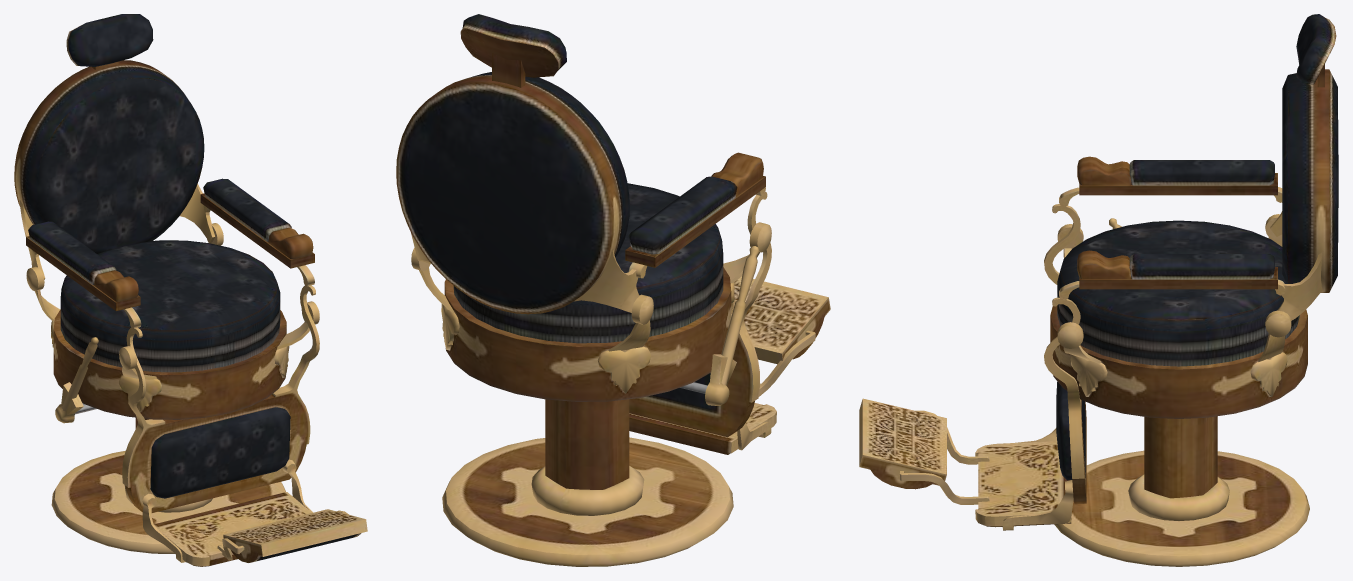
The model's file is BarberShopChair_01.glb.
3 renders of one model, left to right at view 1: azimuth 30°, elevation 25°; view 2: azimuth 150°, elevation 25°; view 3: azimuth 270°, elevation 25°, orthographic. The views are drawn at different scales.
Parts seen in each view (by area): view 1: BarberShopChair_01_0; view 2: BarberShopChair_01_0; view 3: BarberShopChair_01_0.
Part boxes in pixels (x1,y1,x2,y2): BarberShopChair_01_0: (14, 14, 367, 566); BarberShopChair_01_0: (396, 14, 830, 566); BarberShopChair_01_0: (859, 14, 1338, 566).
Bounding box in the file's own units: 0.7565 × 1.49 × 1.33.
Materials: 1 (1 with a texture image).
